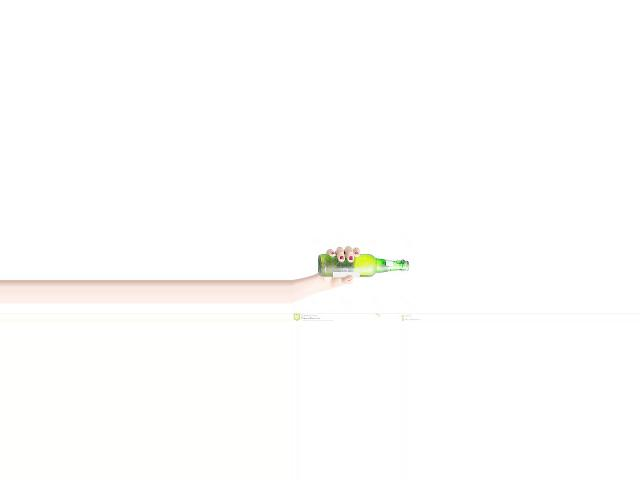beer: (318, 252, 409, 278)
